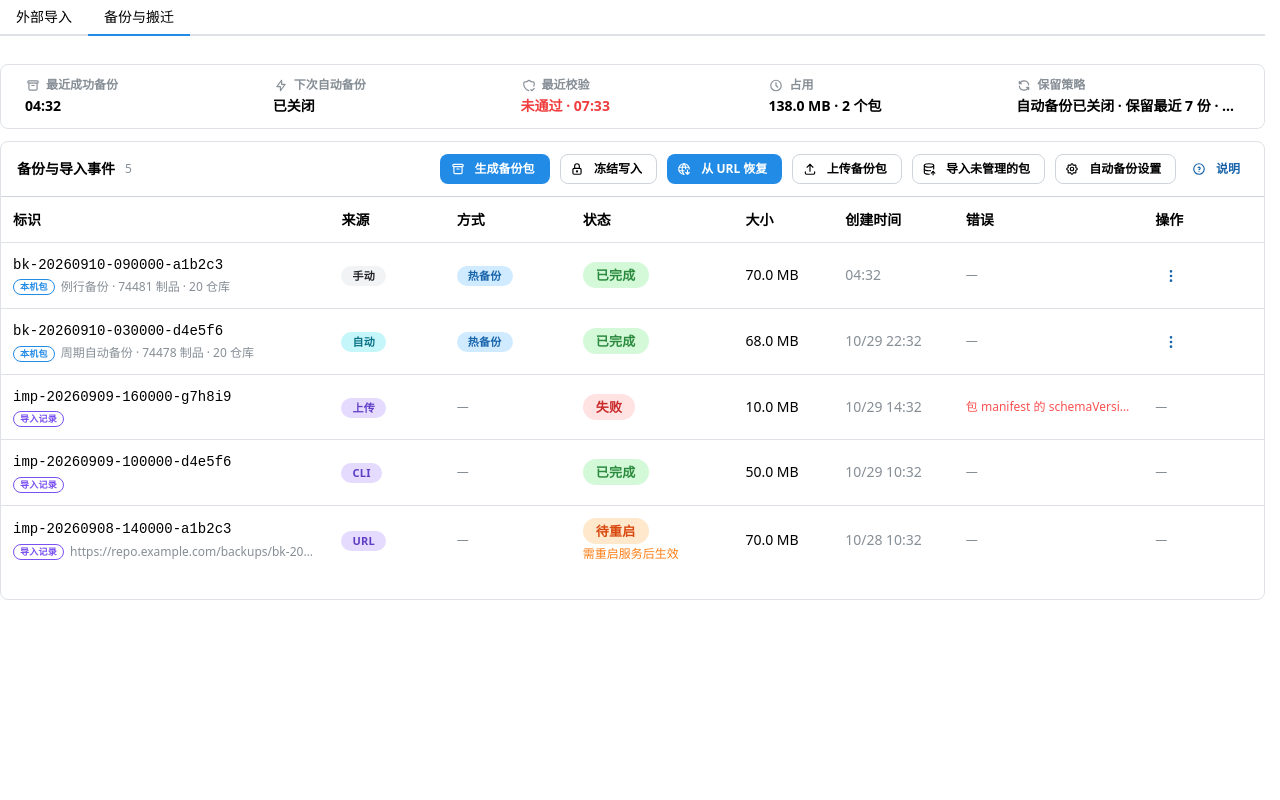
Test: 备份与搬迁 › 自动备份配置的 0 值不被误当成空值
Click the button "自动备份设置": x=1116, y=169 [1055,154,1176,184]
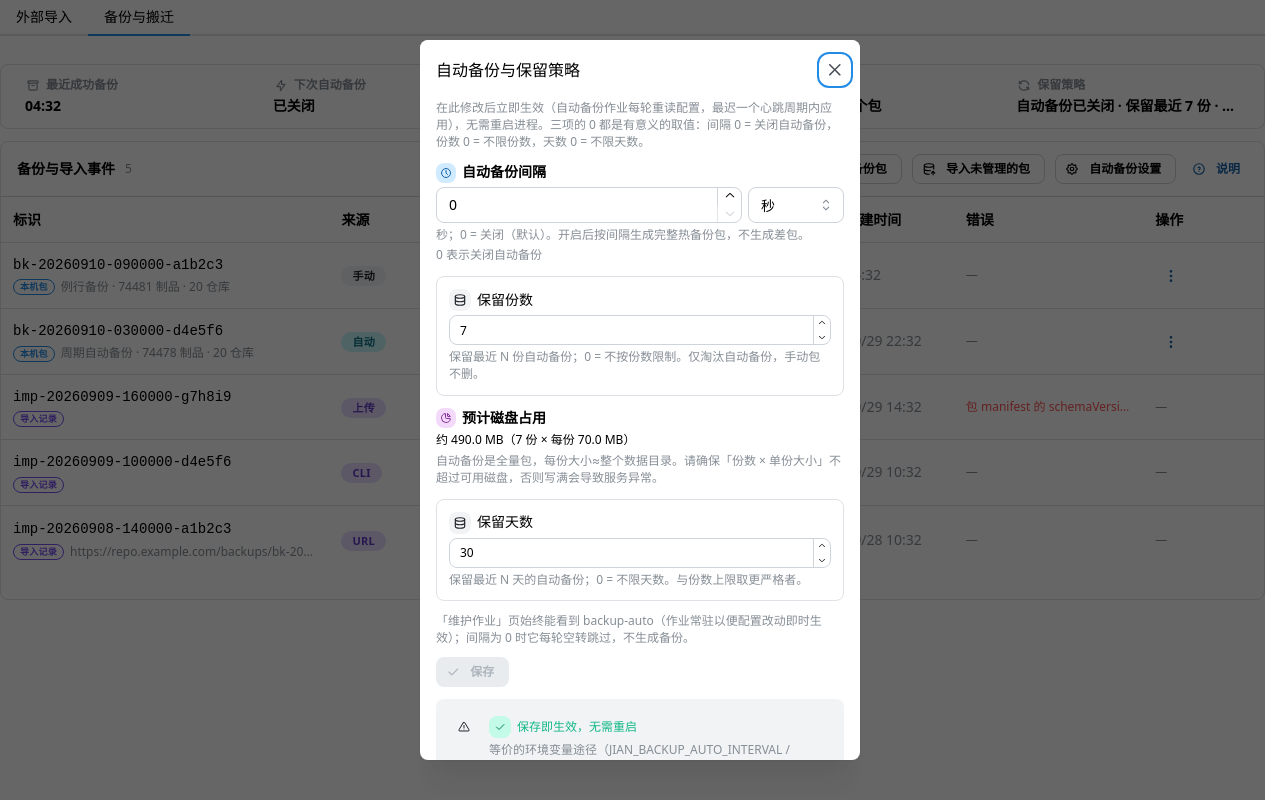
Check: the field with test id "auto-interval" holds "0", box [436,187,742,223]
